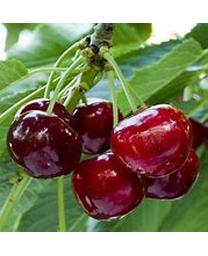cherry: (110, 104, 193, 176), (6, 109, 82, 179), (71, 155, 145, 220), (69, 97, 121, 156)
